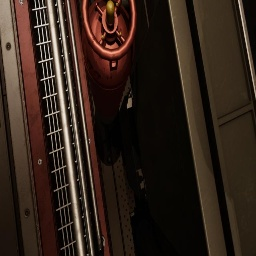NitrogenTank ,: (81, 0, 137, 124)
